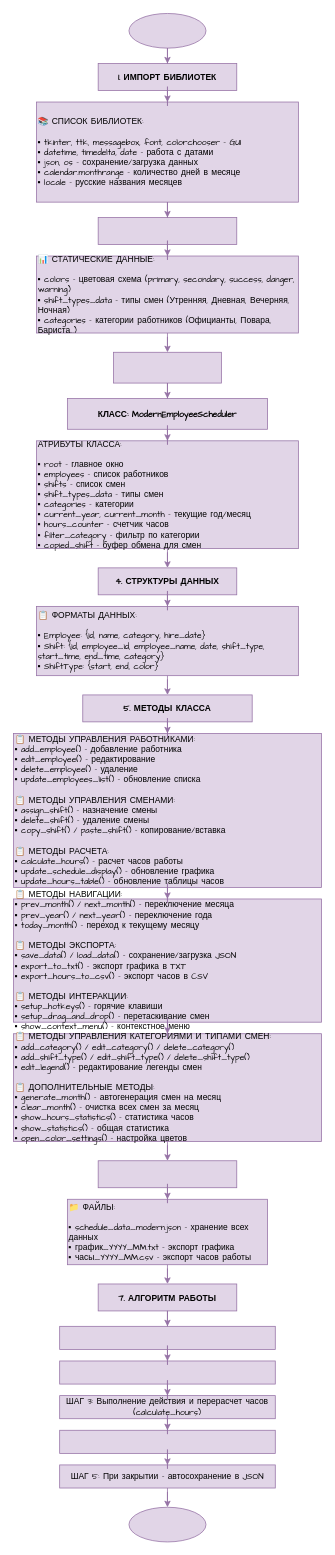
Image size: 335x1555. Some labels were removed from this diagram. Each missing label, with the box of its shape:
2. СТАТИЧЕСКИЕ ДАННЫЕ: (97, 217, 237, 244)
3. КЛАСС: (113, 352, 221, 383)
6. ФАЙЛОВАЯ СИСТЕМА: (97, 1160, 237, 1188)
КОНЕЦ: (128, 1507, 206, 1542)
СТАРТ: (128, 13, 206, 48)
ШАГ 1: Запуск приложения и загрузка данных из JSON: (59, 1326, 275, 1349)
ШАГ 2: Пользователь выбирает действие (работники/смены/навигация): (59, 1360, 275, 1384)
ШАГ 4: Обновление интерфейса (update_schedule_display): (59, 1430, 275, 1453)
